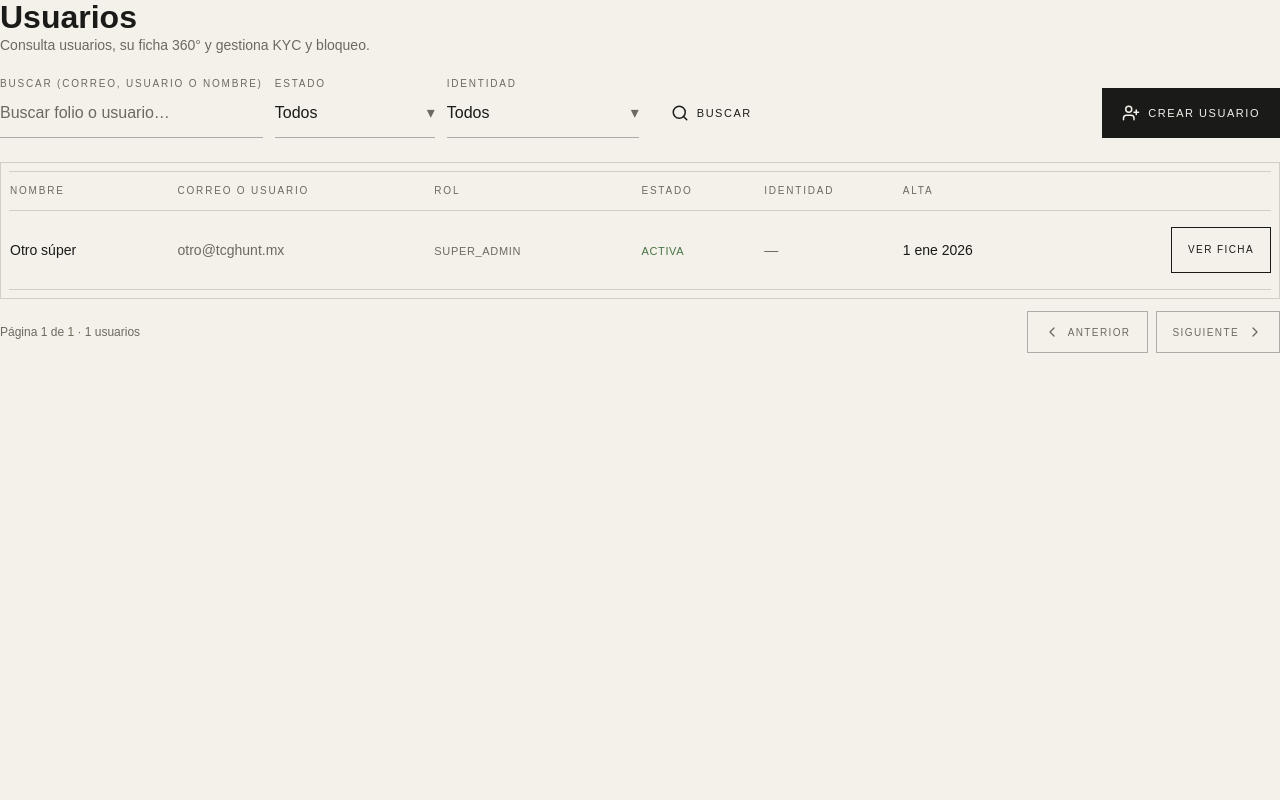
Scenario: PS-164 · la cuenta del dueño en Usuarios › otra cuenta (no del dueño) ⇒ los tres botones de siempre y sin la frase
Click the button "Ver ficha". click: [1221, 250]
box: [1171,227,1271,273]
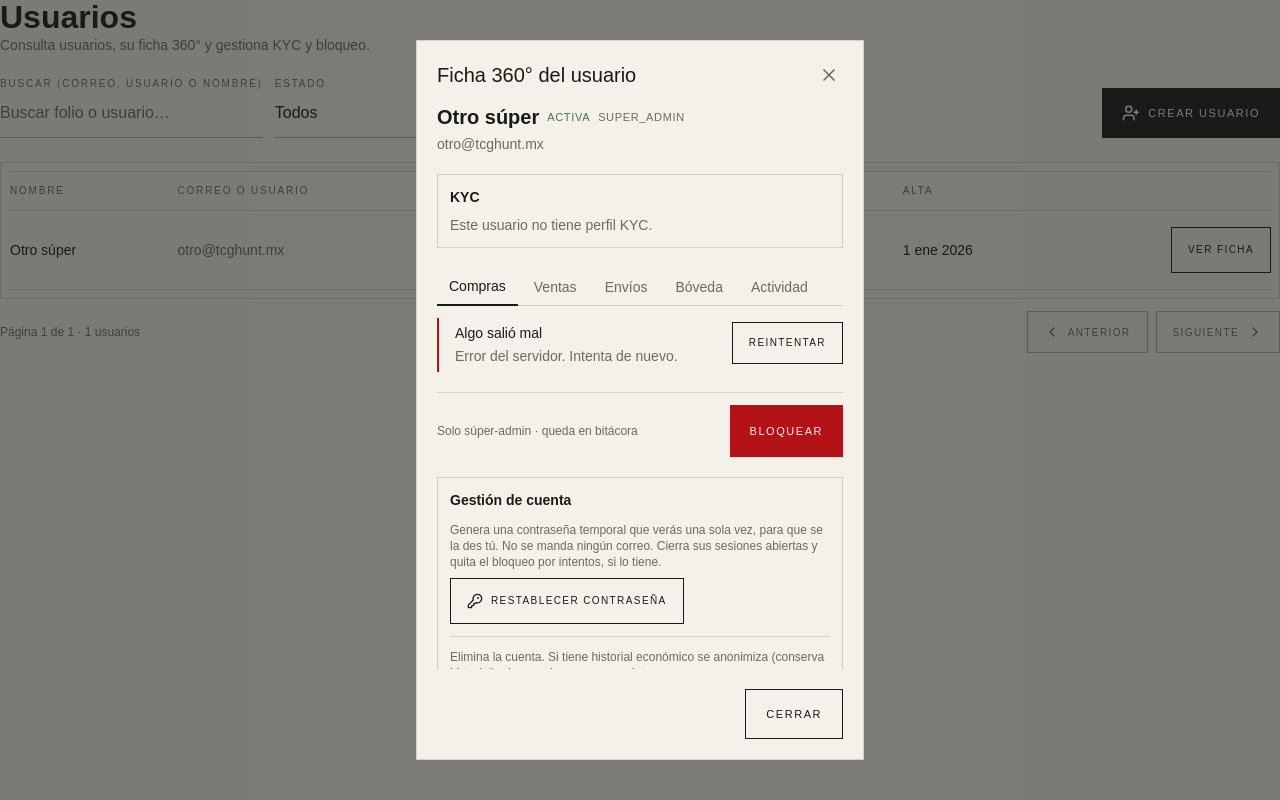
Check: the button "Restablecer contraseña" is shown, box [450,578,684,624]
Check: the button "Bloquear" is shown, box [730,404,843,456]
